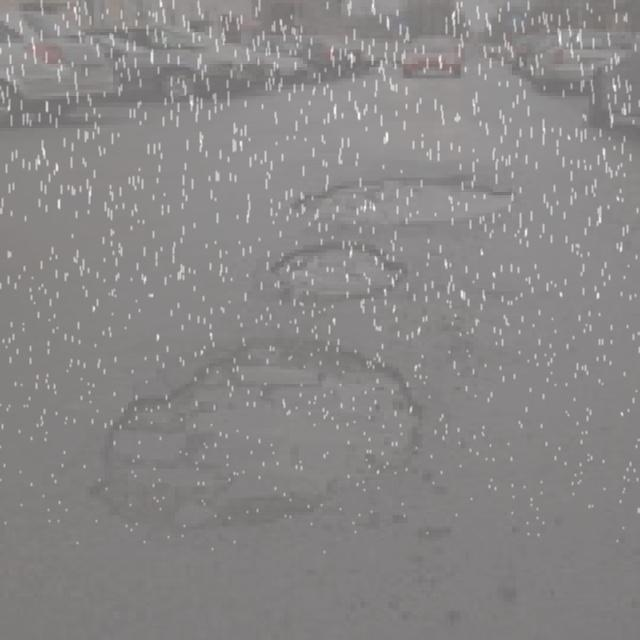Pothole: (86, 323, 433, 543), (288, 171, 518, 226), (267, 240, 407, 312)
